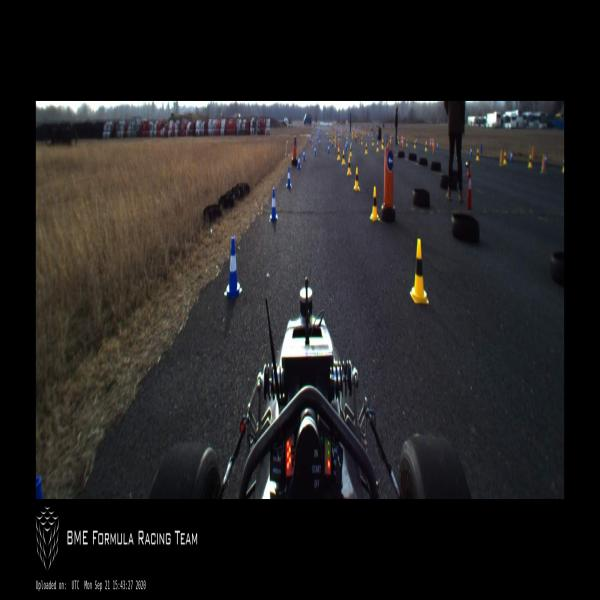blue_cone: (224, 235, 243, 300), (270, 188, 278, 223), (286, 168, 292, 189), (544, 153, 548, 170), (297, 153, 301, 168), (510, 149, 514, 164), (303, 148, 306, 161), (314, 145, 317, 156), (327, 144, 330, 154), (344, 142, 347, 152), (350, 140, 353, 149), (470, 146, 472, 158), (436, 141, 439, 149), (416, 136, 418, 144), (404, 134, 405, 141)
large_orange_cone: (430, 136, 432, 149), (432, 137, 434, 147)
unknown_cone: (540, 152, 546, 174), (499, 148, 503, 166)
yellow_cone: (410, 238, 429, 304), (370, 186, 379, 222), (354, 167, 360, 193), (528, 152, 533, 172), (347, 157, 351, 176), (503, 148, 507, 166), (476, 146, 479, 162), (342, 150, 345, 165), (376, 141, 379, 153), (365, 142, 368, 154), (424, 141, 427, 153), (349, 146, 352, 157), (338, 147, 340, 162), (382, 138, 384, 150), (372, 137, 374, 146), (361, 136, 363, 145), (398, 136, 400, 145), (414, 141, 416, 149), (406, 139, 408, 147)
